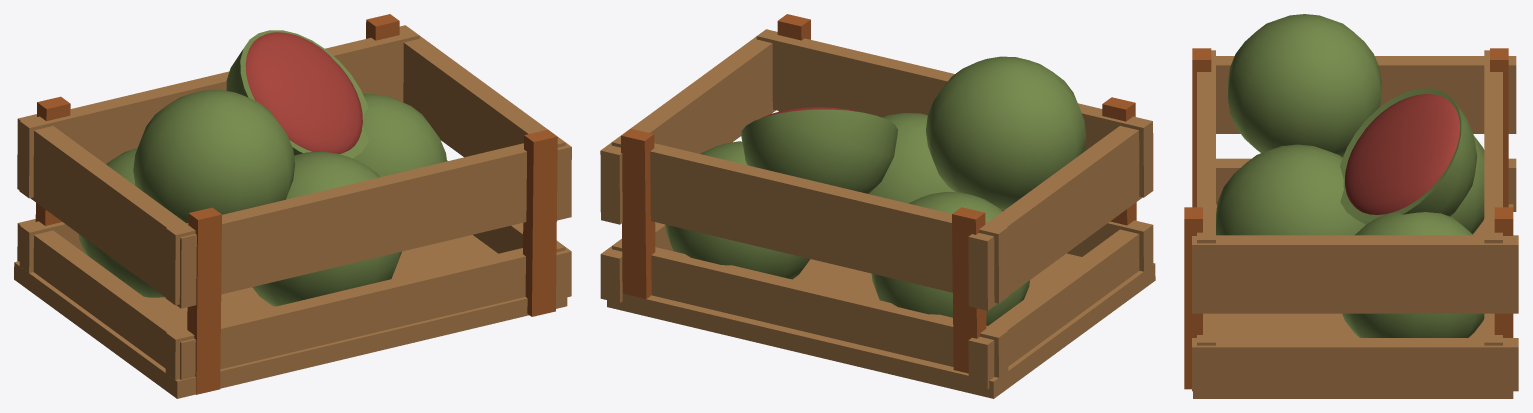
The model's file is MelonCrate_01.fbx.
The picture shows the model from 3 angles, left to right: view 1: azimuth 30°, elevation 25°; view 2: azimuth 150°, elevation 25°; view 3: azimuth 270°, elevation 25°; orthographic projection.
Parts seen in each view (by area): view 1: pCube69, pCube65, pSphere54, pCube75, pCube67, pCube68, pCube66, pSphere52, pCube64, pSphere47, pCube71, pCube73 (+7 smaller); view 2: pCube68, pSphere54, pCube74, pCube75, pCube67, pCube69, pCube66, pSphere53, pCube64, pCube70, pSphere48, pSphere49 (+6 smaller); view 3: pCube66, pCube63, pSphere54, pSphere47, pSphere52, pCube67, pCube75, pSphere48, pSphere53, pCube69, pCube68, pCube71 (+7 smaller).
Part boxes in pixels (<box>): pCube69: <box>165,136,565,305</box>; pCube65: <box>165,240,565,379</box>; pSphere54: <box>133,90,295,223</box>; pCube75: <box>14,235,567,398</box>; pCube67: <box>17,114,196,308</box>; pCube68: <box>19,28,419,198</box>; pCube66: <box>399,25,571,220</box>; pSphere52: <box>245,32,362,153</box>; pCube64: <box>17,219,195,379</box>; pSphere47: <box>252,151,401,306</box>; pCube71: <box>523,129,557,316</box>; pCube73: <box>187,207,221,394</box>; pCube68: <box>611,136,1008,303</box>; pSphere54: <box>926,56,1086,209</box>; pCube74: <box>612,239,1008,377</box>; pCube75: <box>607,253,1155,398</box>; pCube67: <box>968,126,1142,310</box>; pCube69: <box>756,29,1153,197</box>; pCube66: <box>600,36,775,224</box>; pSphere53: <box>741,109,897,193</box>; pCube64: <box>968,229,1139,389</box>; pCube70: <box>621,128,655,298</box>; pSphere48: <box>665,141,810,279</box>; pSphere49: <box>871,192,1029,325</box>; pCube66: <box>1192,235,1518,313</box>; pCube63: <box>1192,338,1518,391</box>; pSphere54: <box>1228,14,1381,157</box>; pSphere47: <box>1216,144,1365,235</box>; pSphere52: <box>1345,94,1459,214</box>; pCube67: <box>1216,56,1516,133</box>; pCube75: <box>1193,204,1513,398</box>; pSphere48: <box>1342,212,1484,337</box>; pSphere53: <box>1340,88,1477,224</box>; pCube69: <box>1197,50,1215,243</box>; pCube68: <box>1484,50,1502,243</box>; pCube71: <box>1184,207,1202,389</box>.
Bounding box in the file's own units: 6.41 × 3.72 × 4.8.
